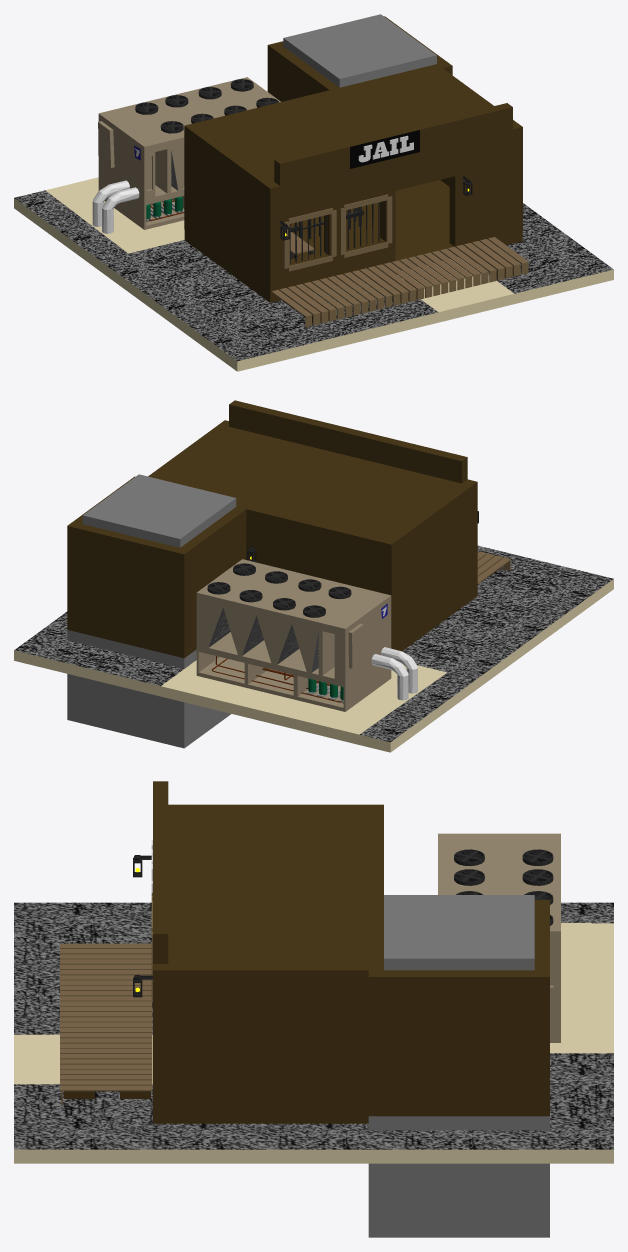
Rendered from Jail.glb.
3 views of the same model, one above another, from view 1: azimuth 30°, elevation 25°; view 2: azimuth 150°, elevation 25°; view 3: azimuth 270°, elevation 25° (orthographic). The views are drawn at different scales.
Visible parts, largest first — view 1: Walls, Ground, ACC, Deck, Floor, Window Frame, Piping, Cage Door.002, Sign; view 2: Walls, Ground, ACC, Piping, Floor, Deck; view 3: Walls, Ground, Deck, ACC, Floor.
Boxes of the visible parts, box(x1,y1,x2,y2) form: Walls: box(184, 14, 522, 292); Ground: box(14, 177, 613, 371); ACC: box(98, 77, 280, 229); Deck: box(271, 237, 528, 327); Floor: box(184, 180, 522, 302); Window Frame: box(284, 194, 392, 271); Piping: box(92, 180, 139, 233); Cage Door.002: box(290, 202, 379, 263); Sign: box(358, 135, 413, 162); Walls: box(67, 400, 477, 748); Ground: box(14, 545, 613, 752); ACC: box(196, 559, 391, 711); Piping: box(371, 647, 417, 700); Floor: box(392, 586, 477, 651); Deck: box(477, 551, 510, 584); Walls: box(153, 781, 549, 1237); Ground: box(14, 902, 613, 1163); Deck: box(60, 943, 152, 1105); ACC: box(438, 833, 560, 1042); Floor: box(153, 1110, 368, 1123).
Size of the model in its own units: 11.57 by 6.35 by 11.88.
21 materials, 1 textured.
